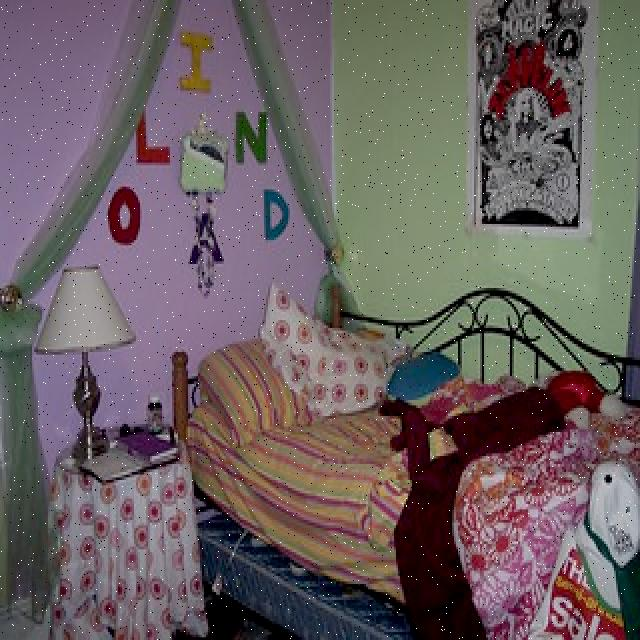bed: (178, 267, 640, 637)
